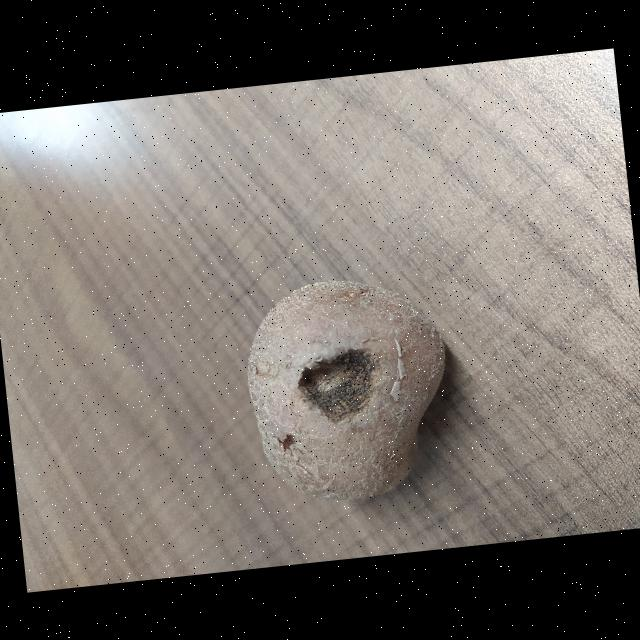Damaged potato: (43, 323, 310, 556)
